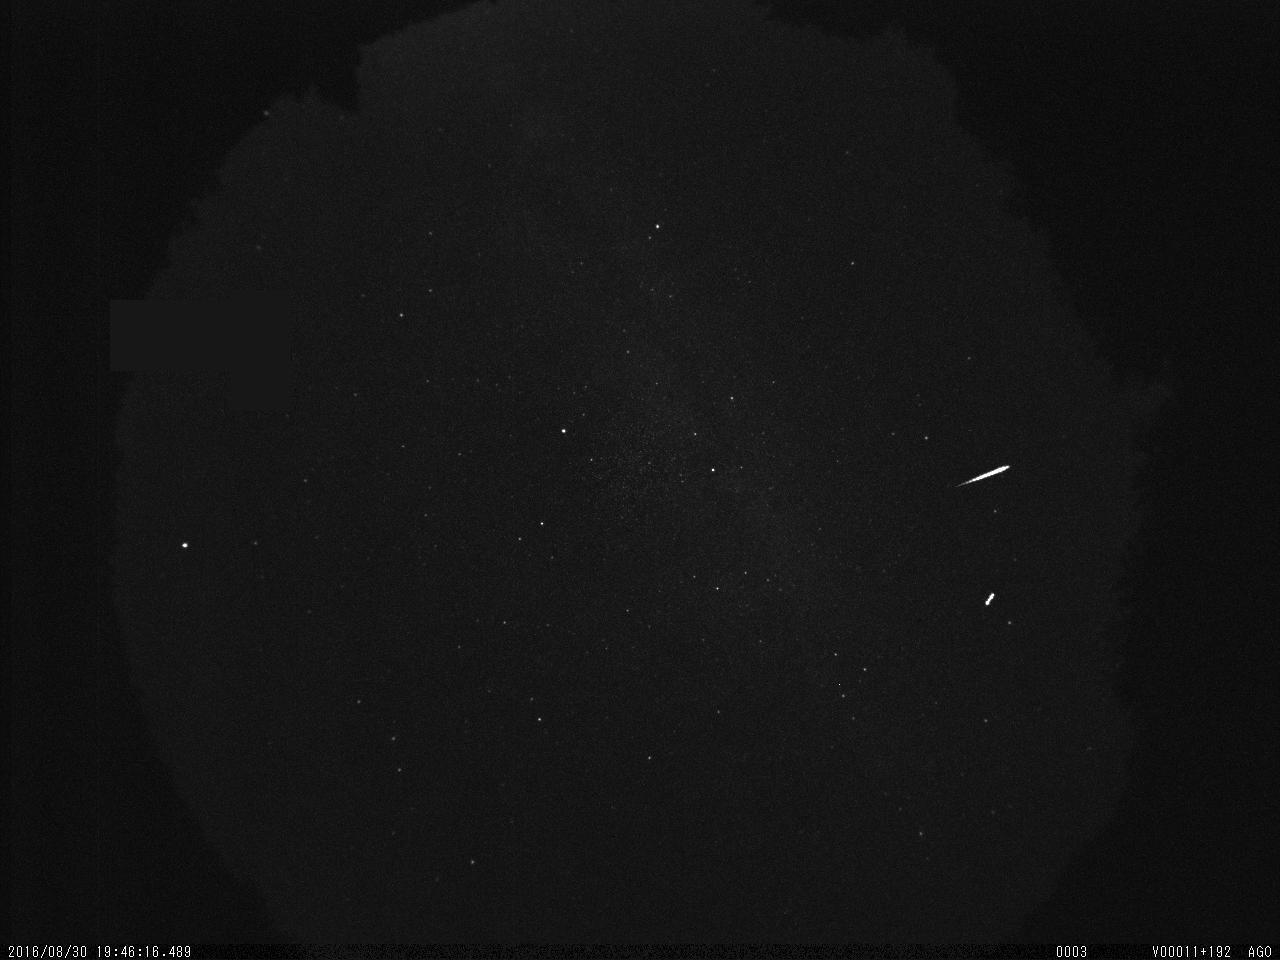Meteor: (955, 461, 1011, 486)
